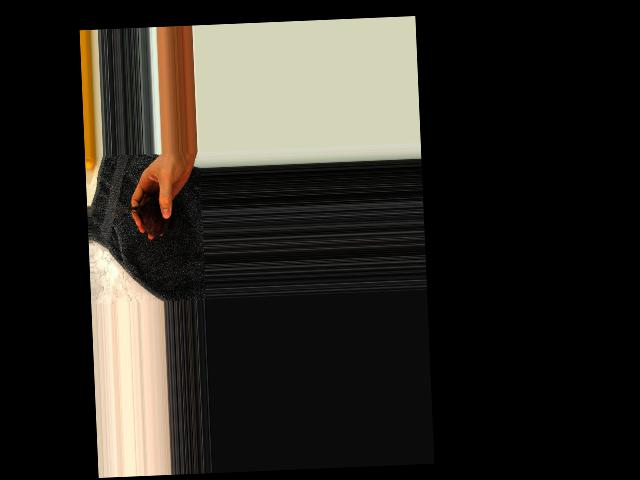beet: (112, 194, 175, 238)
